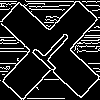T: (25, 25, 78, 79)
